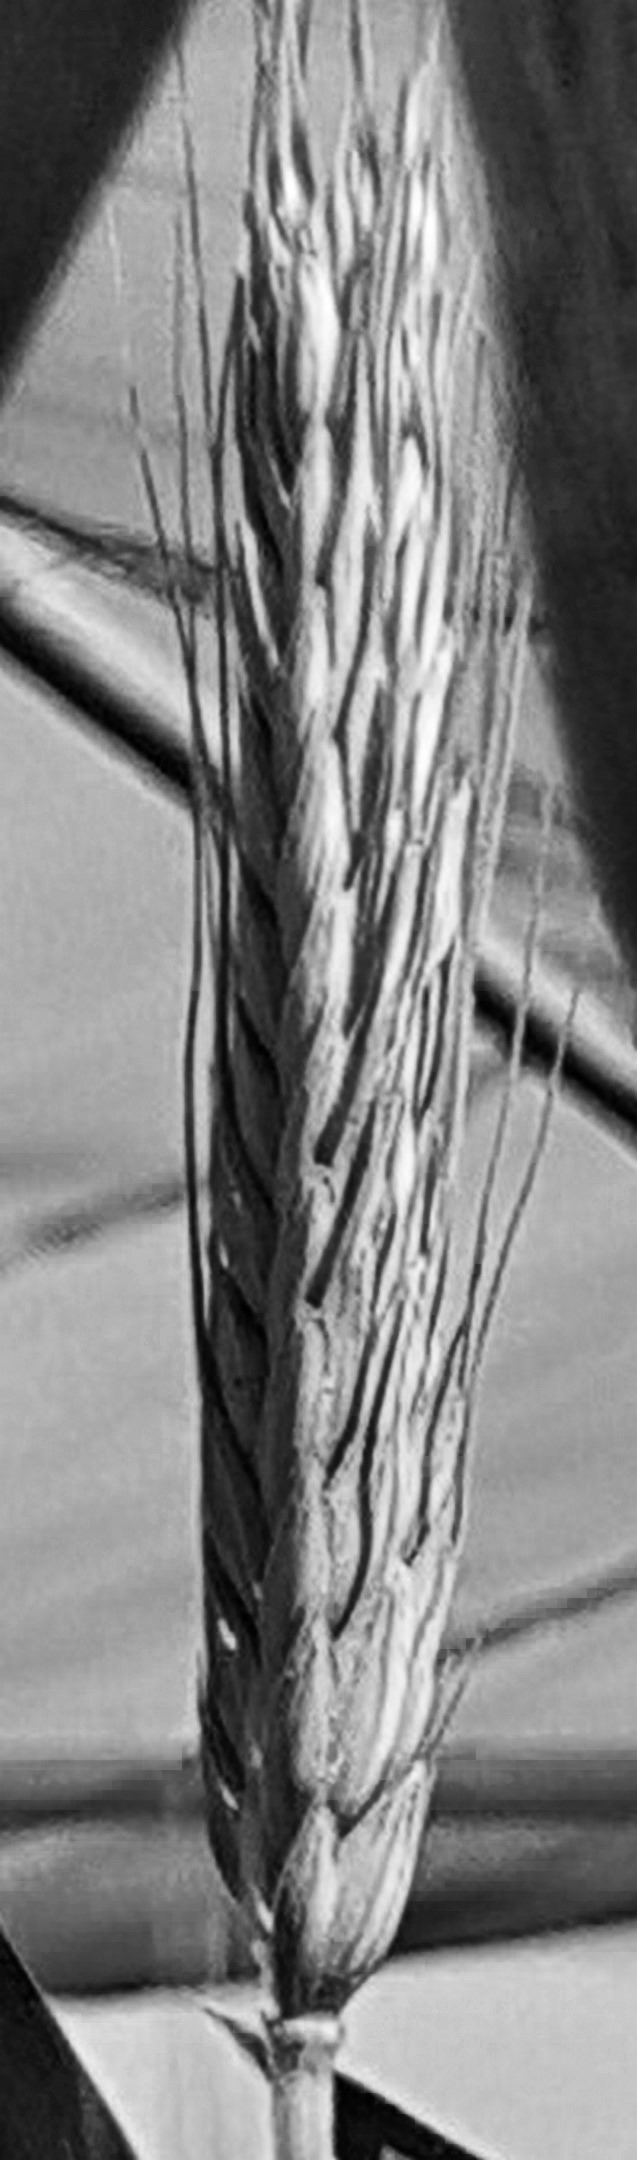Healthy Wheat: (128, 209, 545, 1977)
